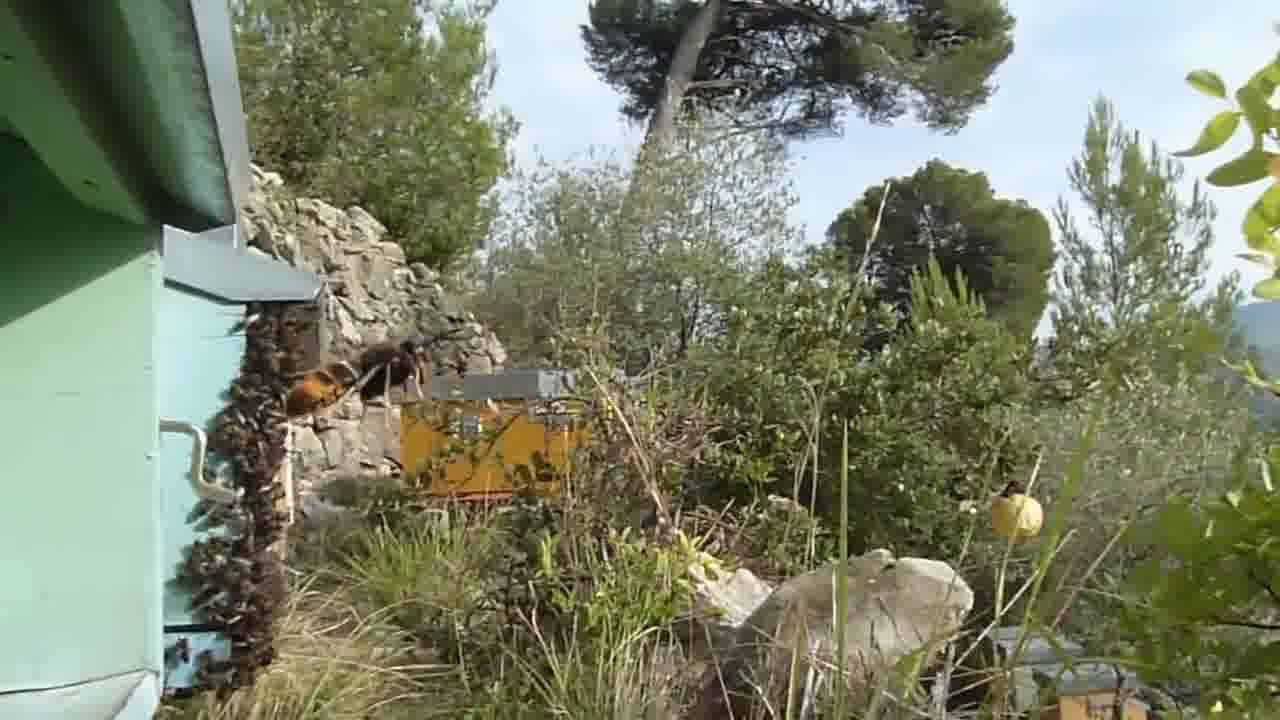bee: (194, 498, 296, 618), (226, 305, 301, 401), (212, 407, 293, 488)
hornet: (277, 335, 439, 425)
